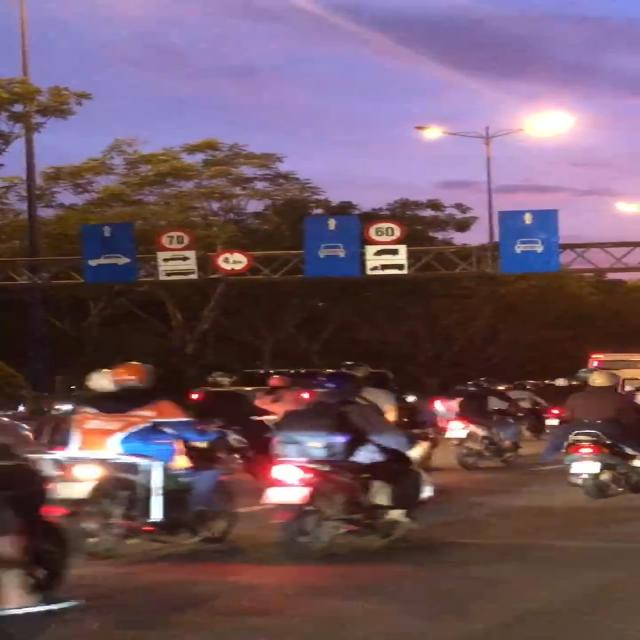Bien bao han che chieu cao: (210, 249, 254, 276)
Bien bao toc do toi da cho phep: (361, 219, 404, 246), (153, 228, 196, 251)
